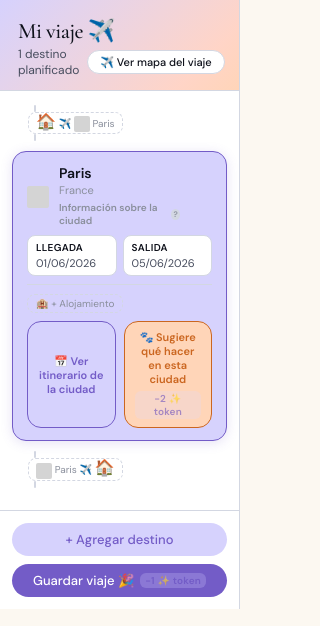
StopListComponent — city info badge (visa/currency/plug) › shows a CTA row instead of a visa result when logged in with no countryOfResidence set
This screenshot has width=320, height=626.
Hover over the element with class "city-info-trigger" at (120, 214), box left=59, top=202, right=180, bottom=228
Wait 150 ms
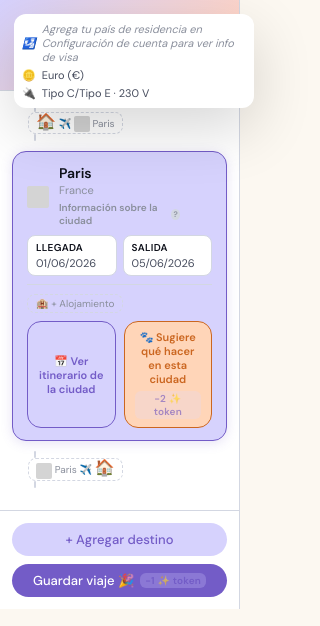
Check: the button with class "city-info-cta" is shown, box left=22, top=22, right=246, bottom=64
